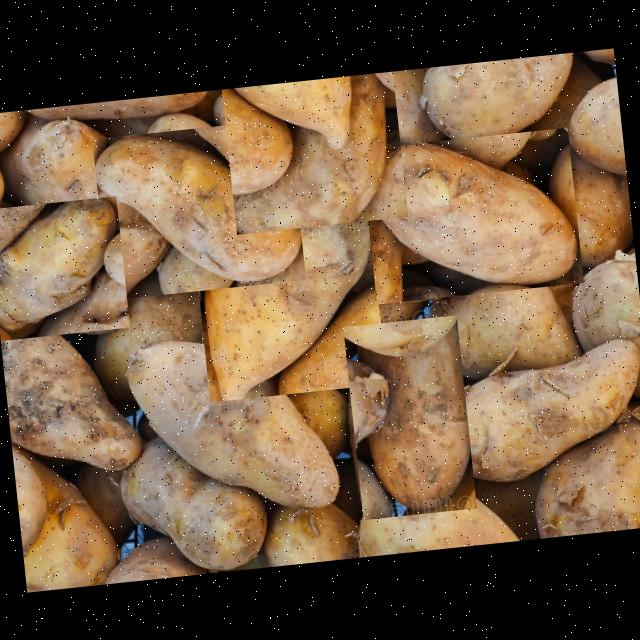Damaged potato: (186, 159, 387, 402), (128, 322, 348, 526), (361, 127, 584, 304), (92, 118, 306, 300), (421, 342, 640, 481), (342, 314, 477, 520), (0, 195, 129, 340)
Potato: (222, 71, 408, 234)
